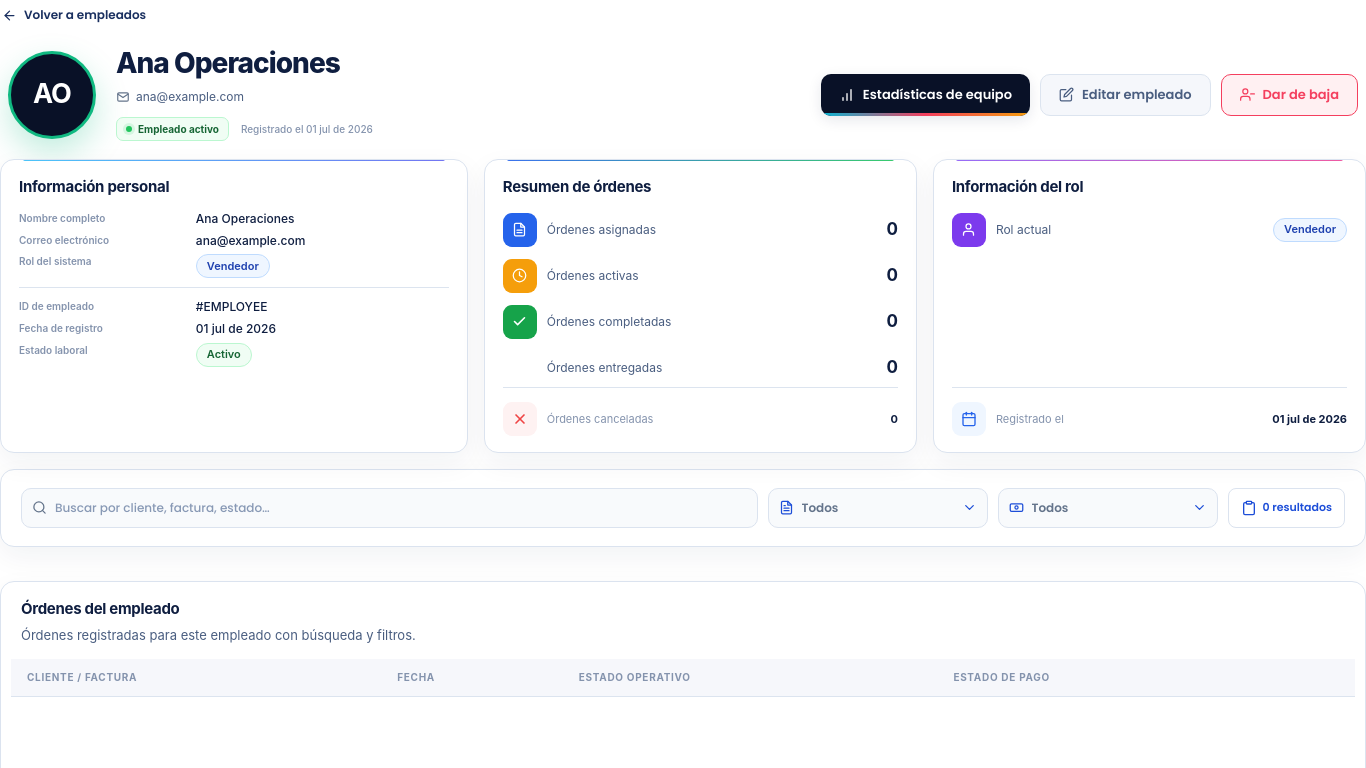
AdminEmployeeTeamModule › compares all production areas without mixing the individual tabs
Click the button with aria-label "Abrir estadísticas de equipo".
click(925, 95)  # box [821,74,1030,116]
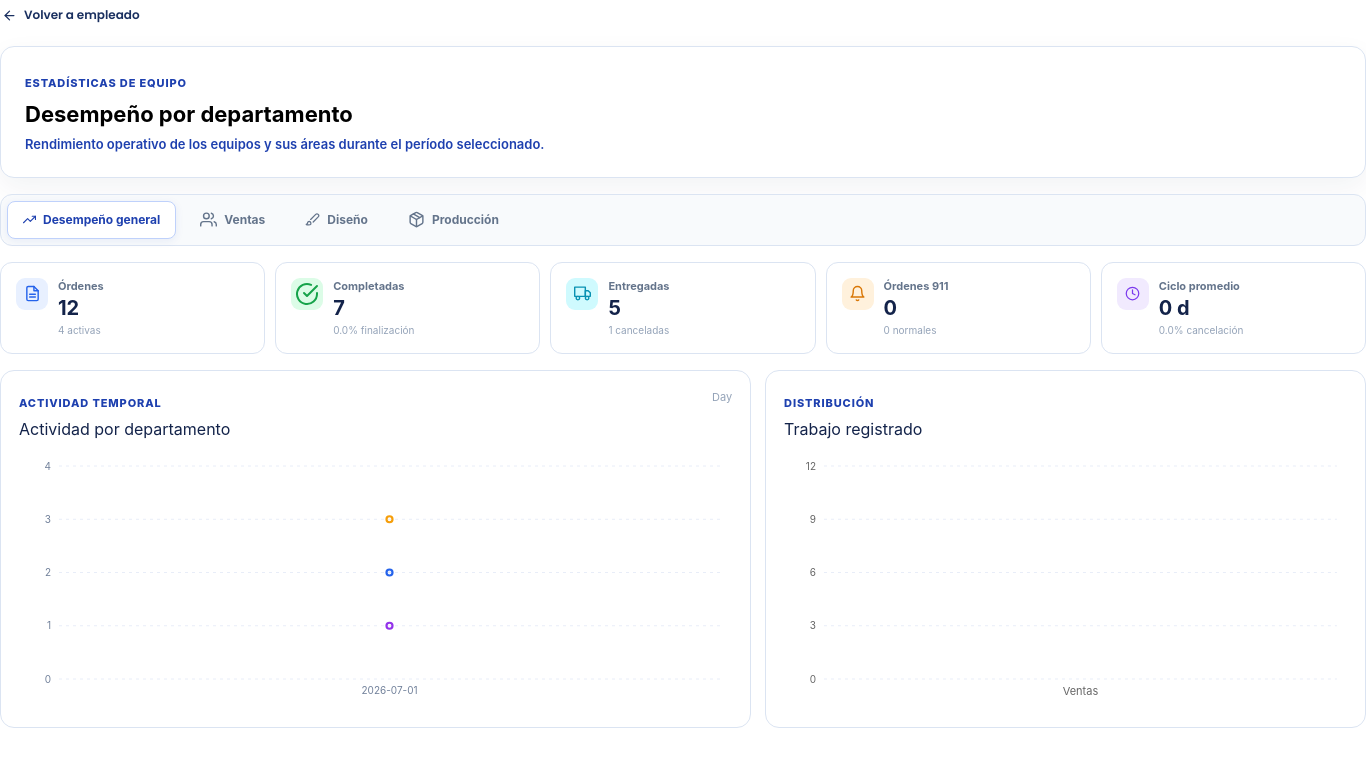
Click the tab "Producción".
click(453, 220)  # box [392,200,515,238]
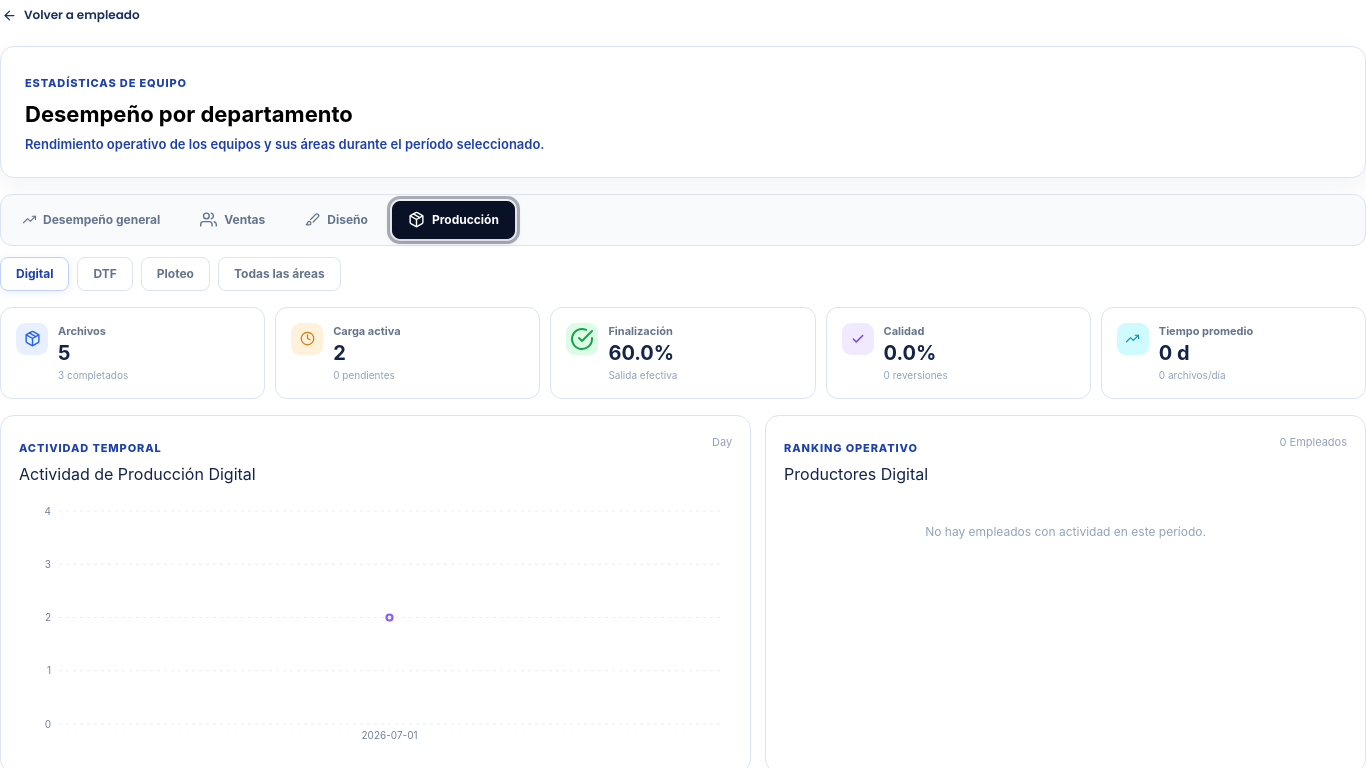
Click the tab "Todas las áreas".
click(279, 274)  # box [218,256,341,290]
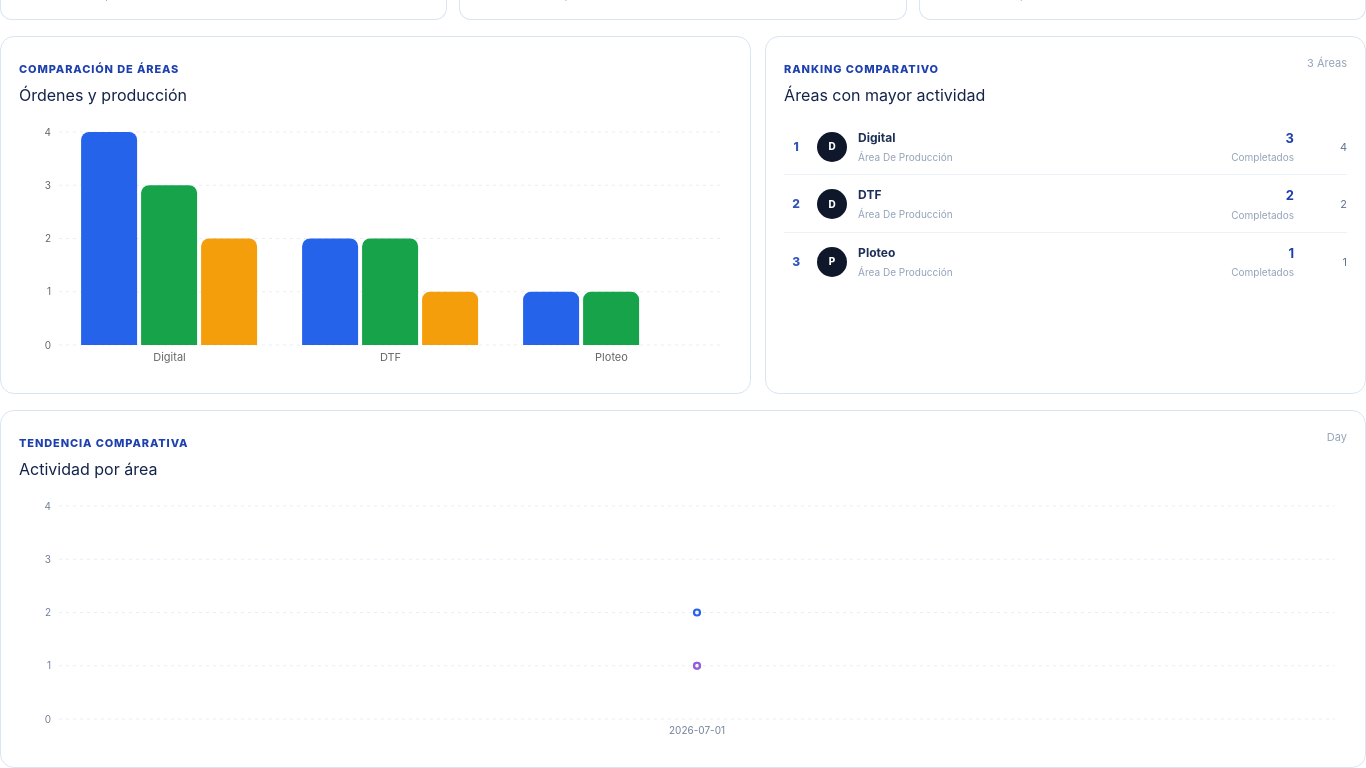
Check: the heading "Órdenes y producción" is shown, box [19,82,187,106]
Check: the heading "Áreas con mayor actividad" is shown, box [784,82,985,106]
Check: the heading "Actividad por área" is shown, box [19,458,157,478]
